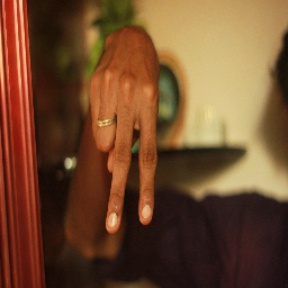Y: (80, 51, 166, 241)
